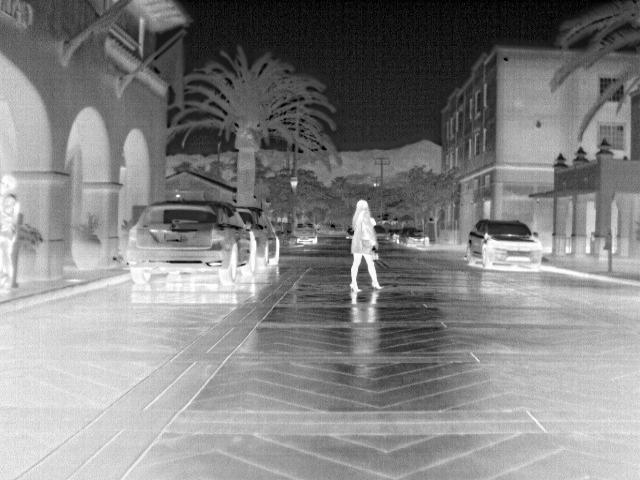car: (124, 198, 254, 286), (467, 217, 547, 273), (236, 207, 266, 280), (248, 204, 279, 266), (397, 227, 432, 246), (293, 222, 317, 248)
person: (350, 198, 387, 290), (1, 176, 22, 294)
